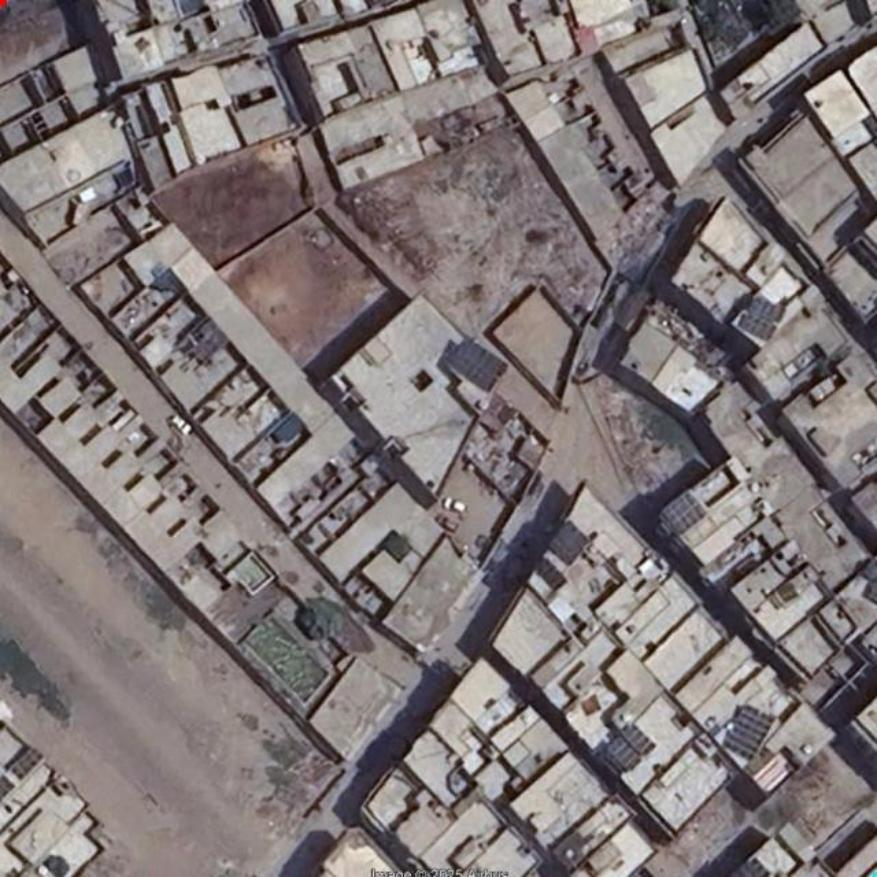Solarpanel: (447, 337, 507, 392), (722, 704, 773, 757), (605, 726, 654, 770), (740, 296, 784, 340), (661, 493, 704, 536)
